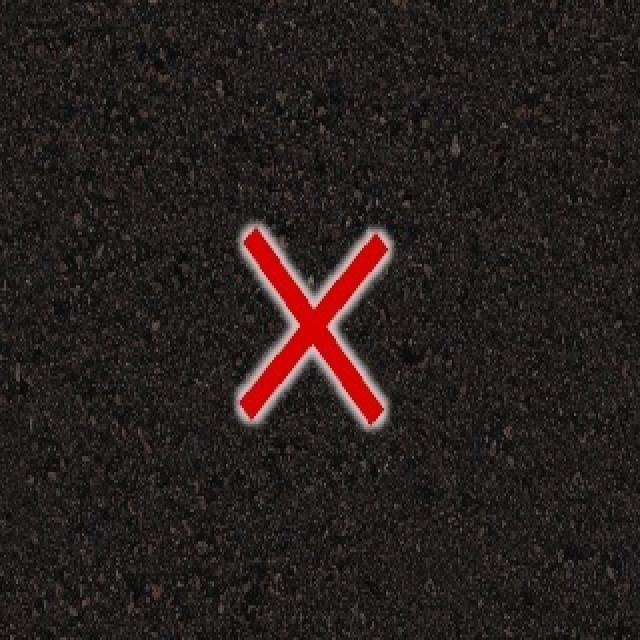x_marker: (239, 228, 387, 423)
